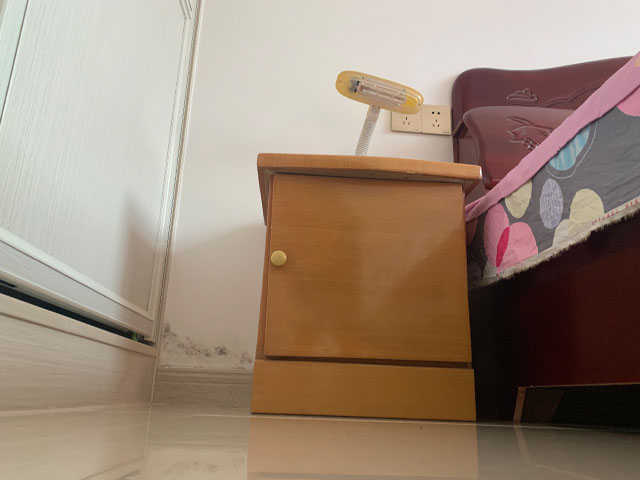bed: (449, 52, 640, 430)
cabinet: (1, 1, 204, 397), (250, 151, 485, 423)
